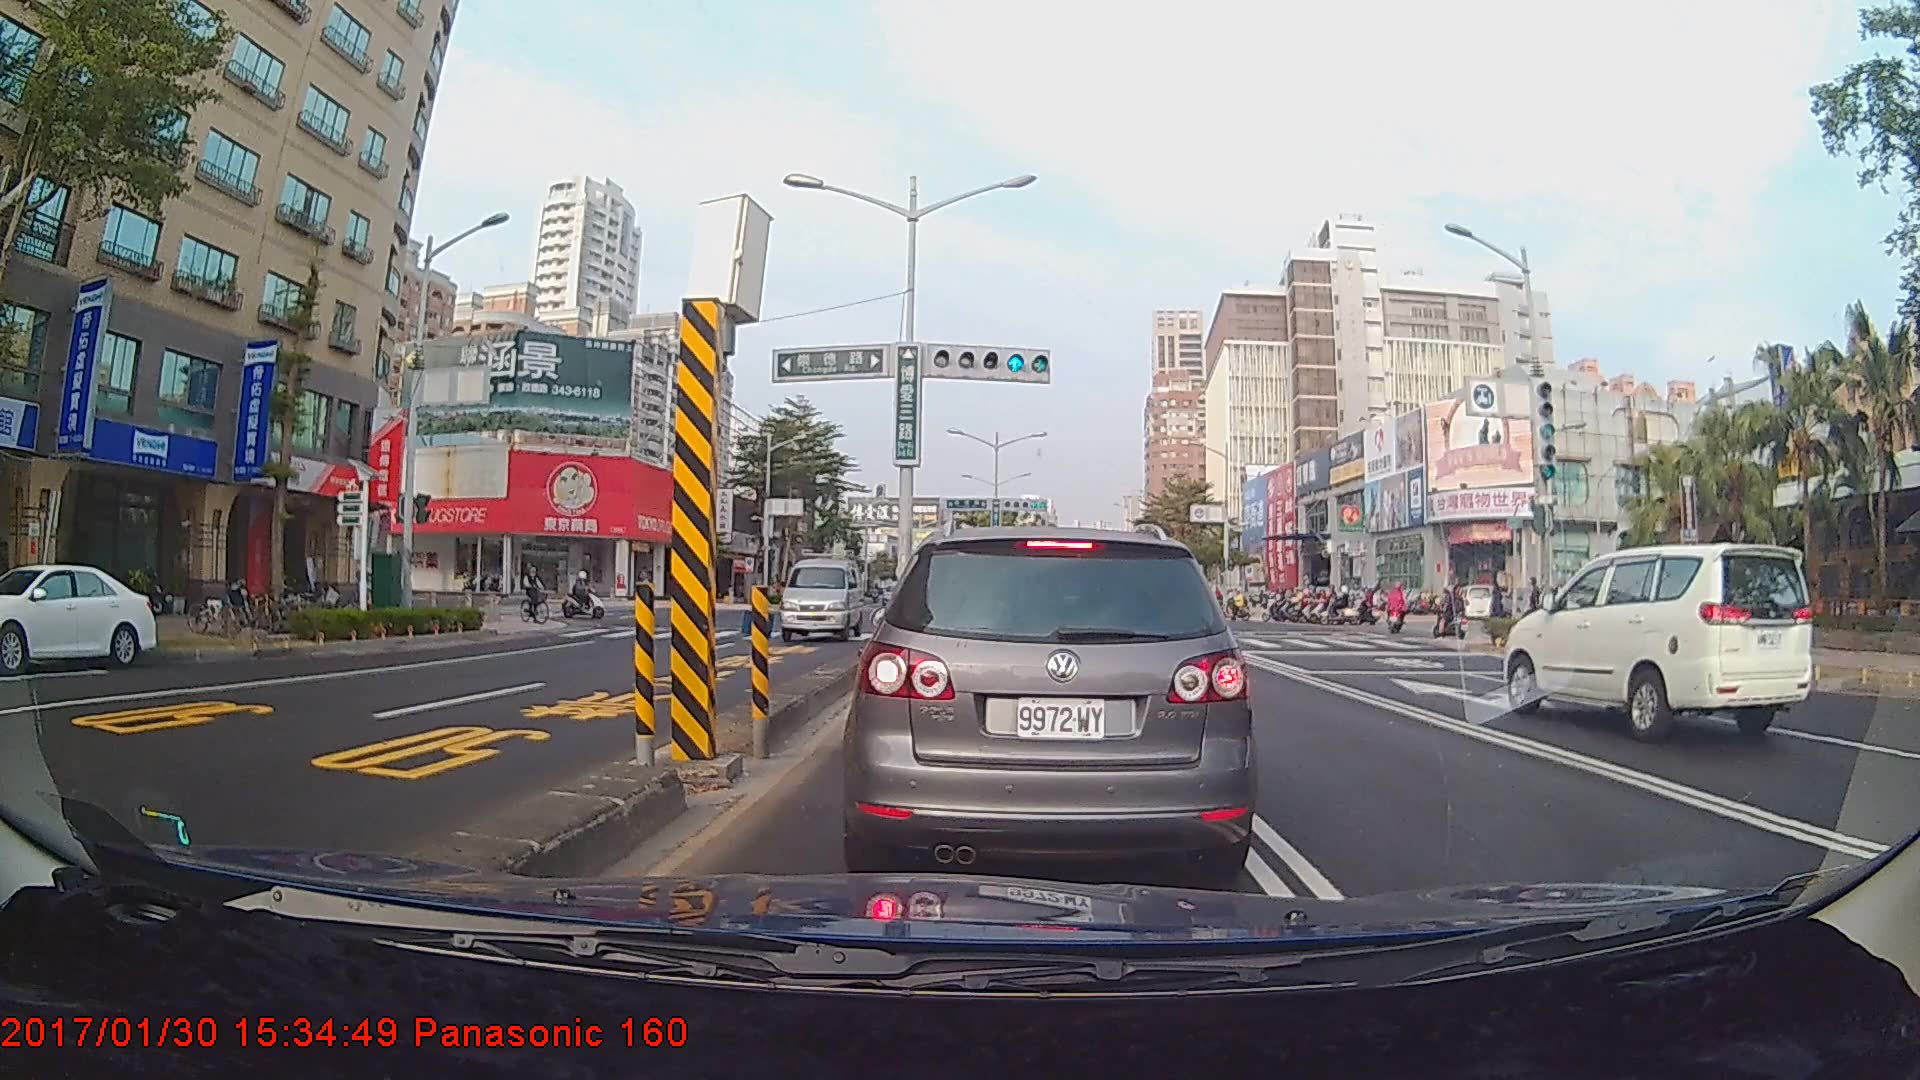pedestrian: (1490, 579, 1511, 637)
rider: (563, 568, 614, 625), (518, 559, 557, 629), (1436, 582, 1473, 646), (1385, 580, 1410, 640)
vehicle: (853, 521, 1246, 884), (1500, 538, 1814, 741), (0, 561, 160, 671), (775, 546, 865, 642)
